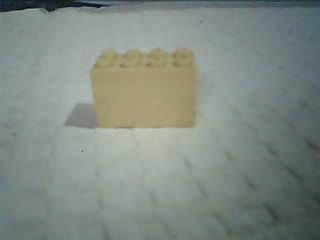lego: (89, 46, 199, 129)
